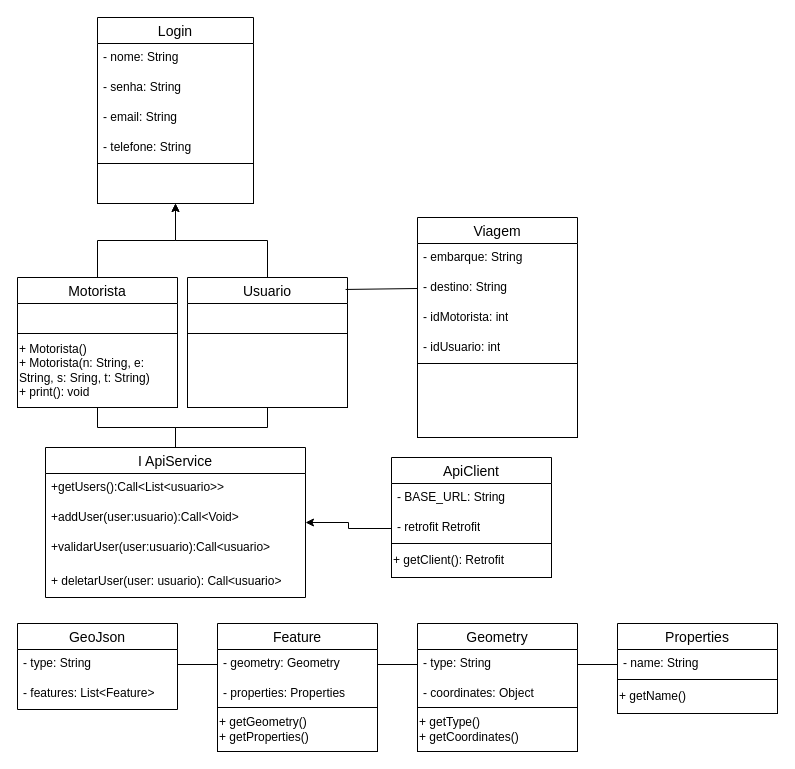
Image size: 795x769. Some labels were removed from this diagram. Here are the shapes that lost their labels. From the top down, the centre of each, then its label:
(267,370): + Usuario() + Usuario(n: String, s: String, e:String, t: String) + print():void
(497,400): + Viagem () + Viagem(e:String, d: String, m: int, u: int) + print():void
